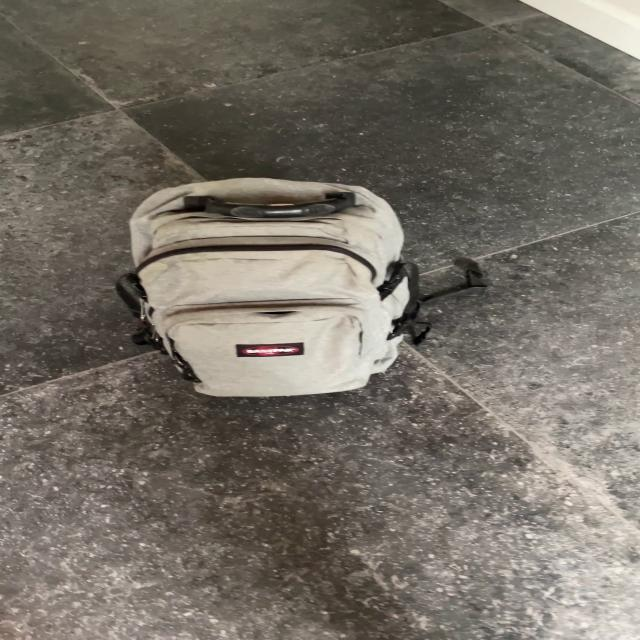backpack: (111, 170, 424, 402)
